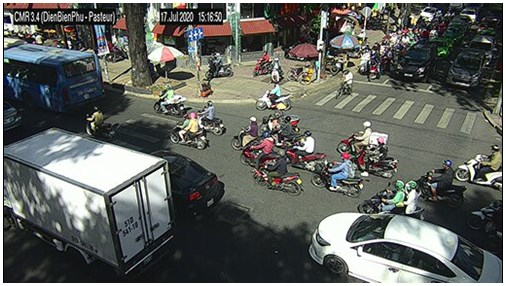xe_buyt: (5, 38, 106, 115)
xe_hoi: (309, 211, 502, 283), (147, 151, 225, 219), (397, 41, 437, 86), (447, 49, 486, 88), (470, 32, 496, 65), (434, 36, 453, 57), (419, 6, 440, 21)
xe_may: (359, 179, 426, 220), (415, 159, 466, 207), (312, 151, 362, 199), (253, 149, 302, 196), (454, 144, 502, 188), (349, 136, 399, 178), (285, 130, 326, 172), (336, 121, 379, 156), (240, 132, 283, 166), (170, 112, 208, 150), (464, 198, 502, 231), (153, 84, 187, 118), (255, 80, 292, 111), (85, 106, 117, 140), (198, 100, 225, 136), (231, 115, 259, 148), (335, 67, 354, 97), (253, 51, 272, 78), (380, 45, 393, 74), (368, 53, 381, 80), (271, 57, 284, 84), (359, 48, 370, 75)
xe_tai: (3, 126, 179, 281)
